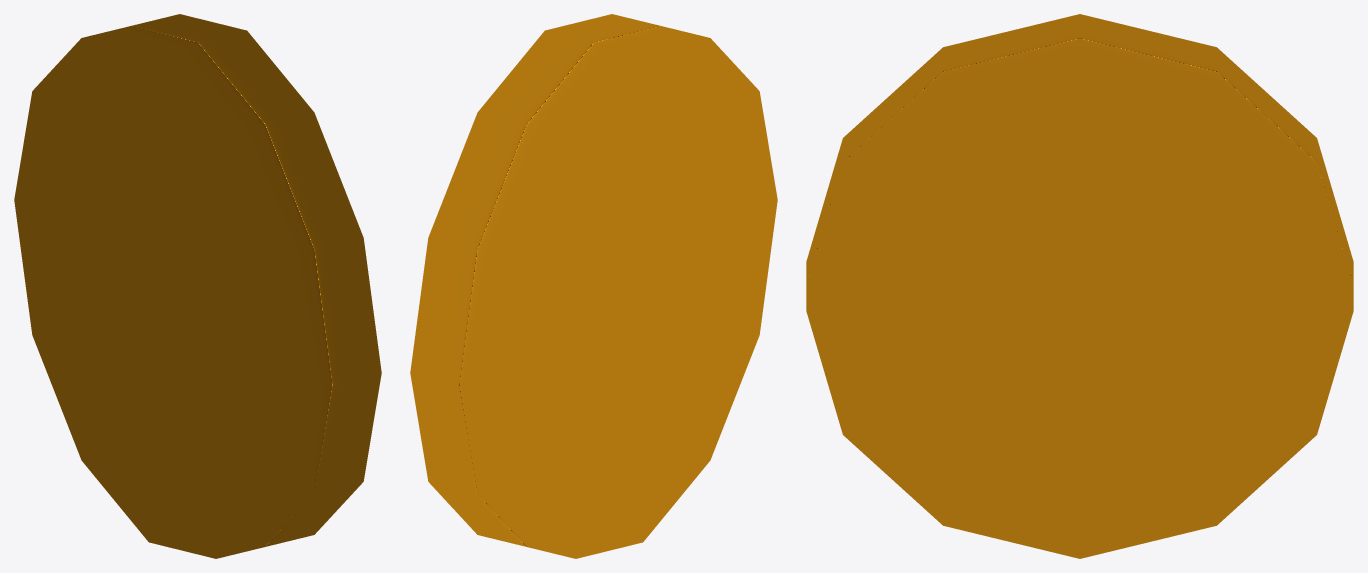
The model's file is Bar3.gltf.
3 renders of one model, left to right at view 1: azimuth 30°, elevation 25°; view 2: azimuth 150°, elevation 25°; view 3: azimuth 270°, elevation 25°, orthographic.
Parts seen in each view (by area): view 1: Cylinder.037; view 2: Cylinder.037; view 3: Cylinder.037.
Part boxes in pixels (x1,y1,x2,y2): Cylinder.037: (14,14,381,558); Cylinder.037: (410,14,777,558); Cylinder.037: (806,14,1353,558).
Size of the model in its own units: 0.000917 by 0.00435 by 0.00435.
